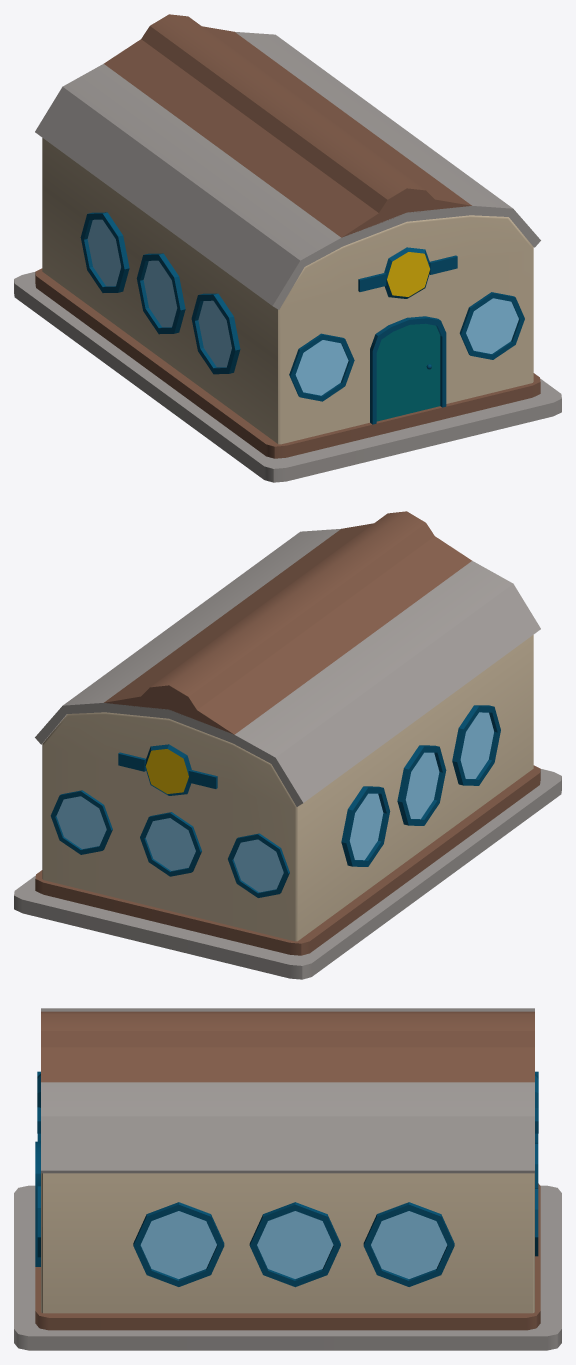
The model's file is House_5.fbx.
3 views of the same model, one above another, from view 1: azimuth 30°, elevation 25°; view 2: azimuth 150°, elevation 25°; view 3: azimuth 270°, elevation 25° (orthographic). The views are drawn at different scales.
Visible parts, largest first — view 1: House_5; view 2: House_5; view 3: House_5.
Boxes of the visible parts, x1=… form: House_5: x1=14, y1=14, x2=561, y2=482; House_5: x1=14, y1=511, x2=561, y2=979; House_5: x1=14, y1=1008, x2=561, y2=1350.
Size of the model in its own units: 224 by 344 by 181.
